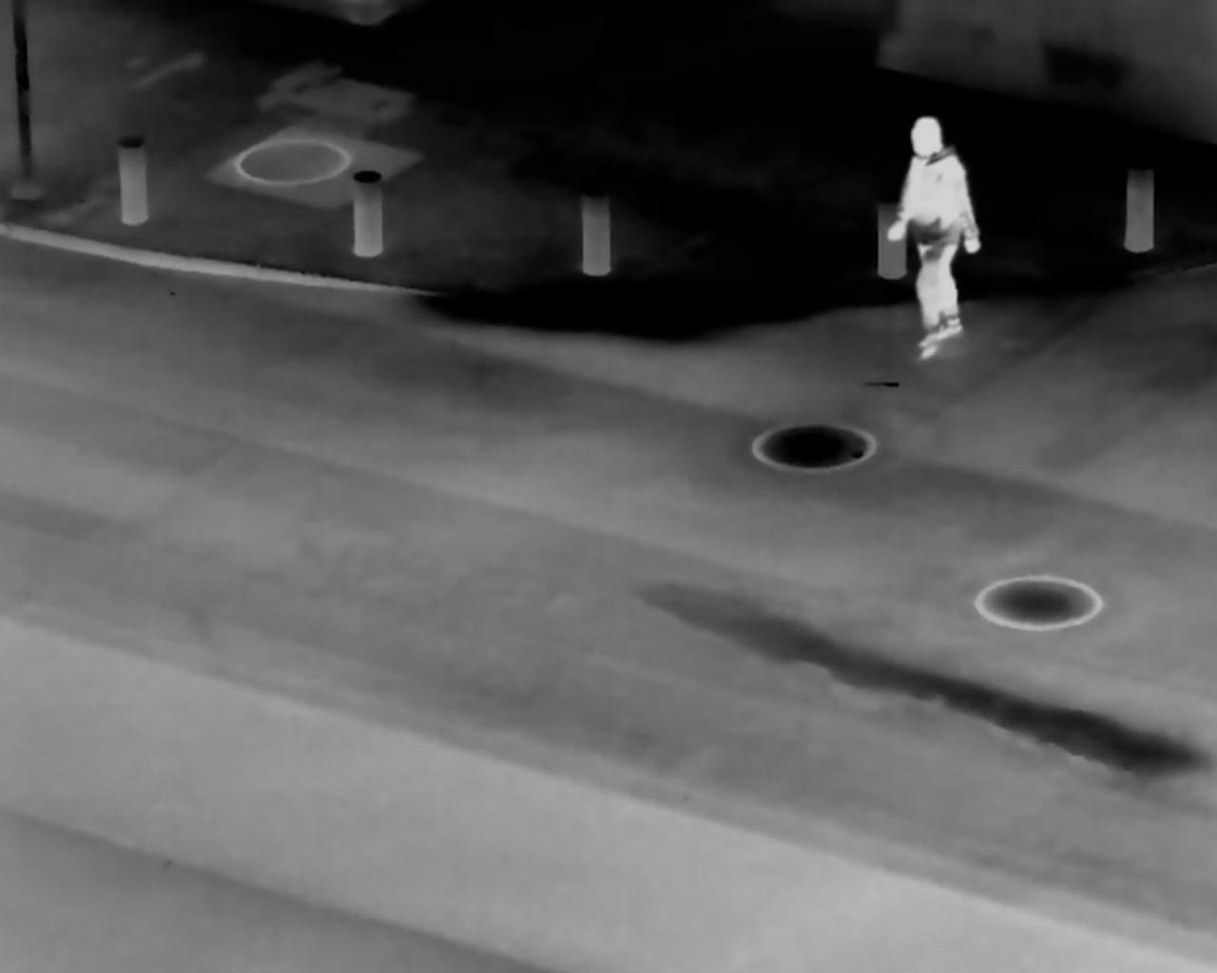person: (881, 111, 976, 363)
